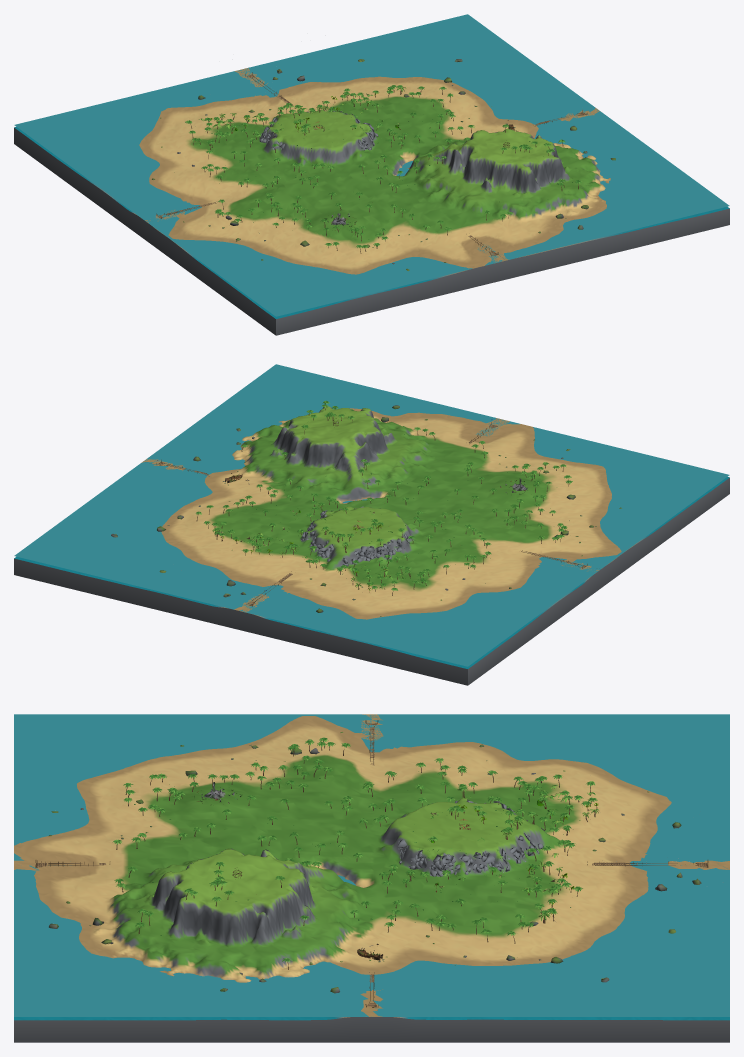
File: near.glb
3 views of the same model, one above another, from view 1: azimuth 30°, elevation 25°; view 2: azimuth 150°, elevation 25°; view 3: azimuth 270°, elevation 25° (orthographic). The views are drawn at different scales.
Visible parts, largest first — view 1: near-placeholder; view 2: near-placeholder; view 3: near-placeholder.
Boxes of the visible parts, x1,y1,x2,y2 form: near-placeholder: (14, 14, 729, 335); near-placeholder: (14, 364, 729, 685); near-placeholder: (14, 714, 729, 1042).
Size of the model in its own units: 500 by 62.69 by 500.
